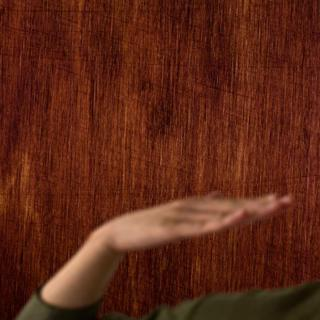WAIT: (94, 184, 296, 257)
